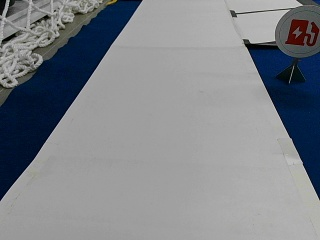battery: (274, 5, 320, 59)
